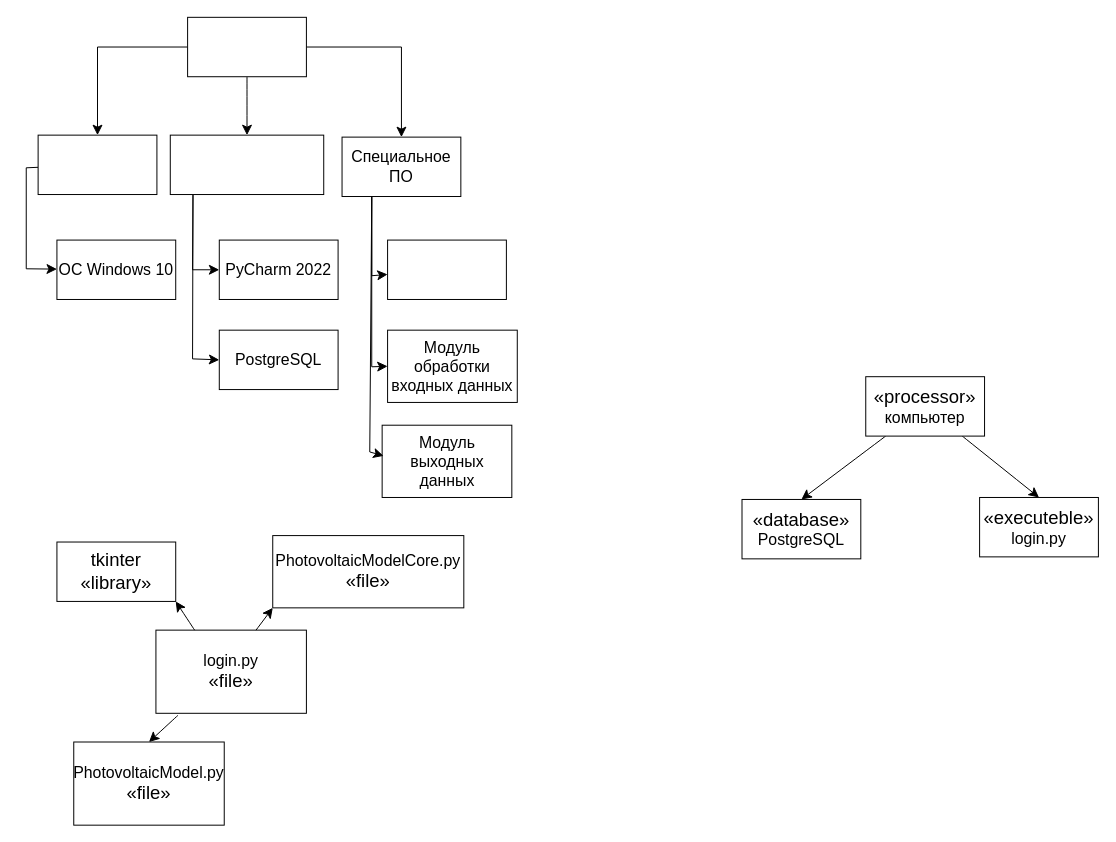
The diagram is 1116 pixels wide and 842 high, and some of its shapes have lost their labels. Each missing label, with the centre of its shape:
"Инструментальные средства" goes at point 246,164.
"Модуль базы данных" goes at point 446,269.
"Общесистемное ПО" goes at point 97,164.
"Программное обеспечение" goes at point 246,46.
